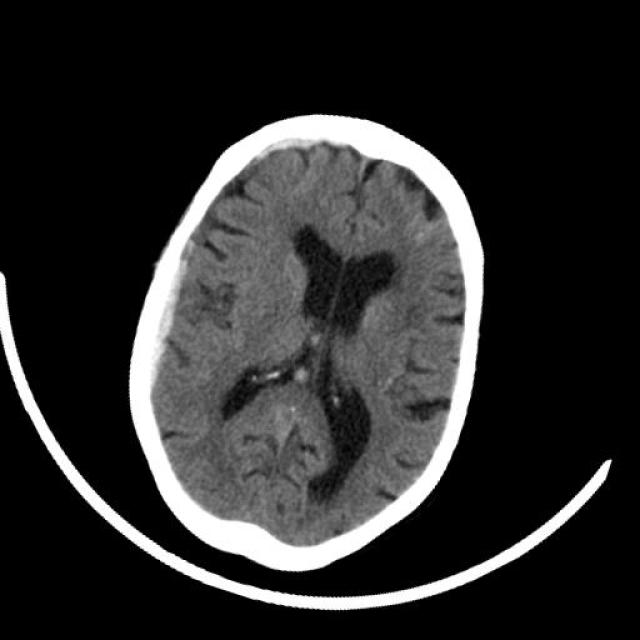Subdural: (94, 219, 240, 421), (224, 111, 335, 198)
